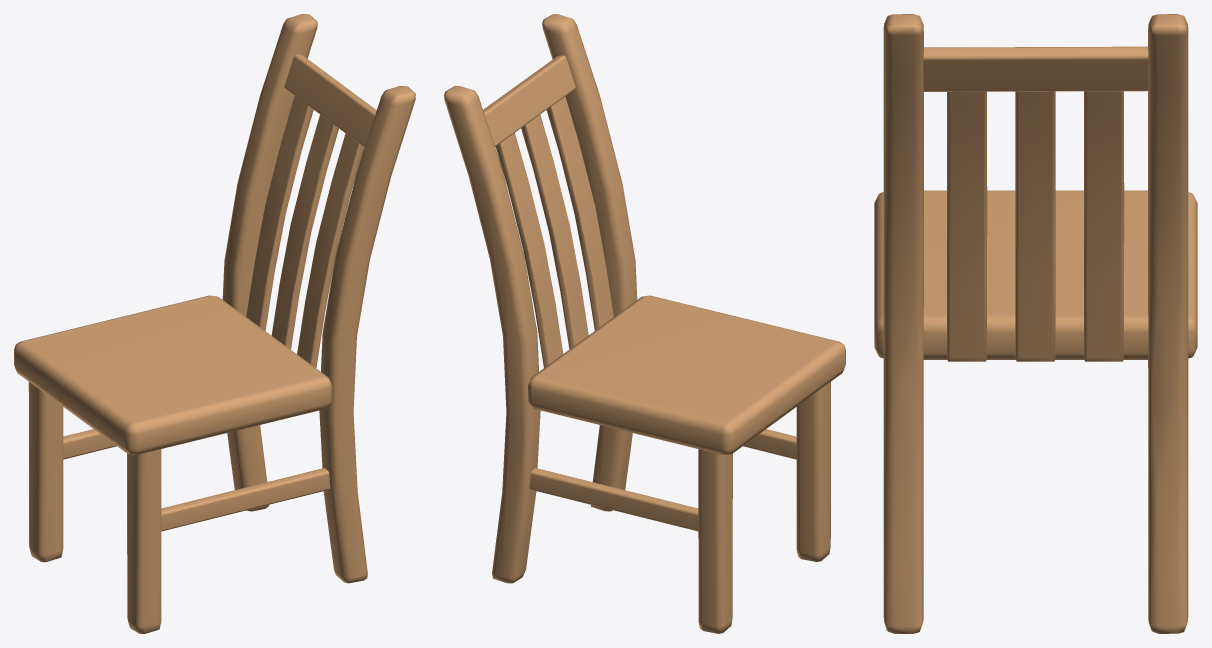
Rendered from chair_04_white.fbx.
The picture shows the model from 3 angles, left to right: view 1: azimuth 30°, elevation 25°; view 2: azimuth 150°, elevation 25°; view 3: azimuth 270°, elevation 25°; orthographic projection. The views are drawn at different scales.
Parts seen in each view (by area): view 1: chair_04_white; view 2: chair_04_white; view 3: chair_04_white.
Part boxes in pixels (box(x1,y1,x2,y2)): chair_04_white: box(14, 14, 415, 633); chair_04_white: box(444, 14, 845, 633); chair_04_white: box(874, 14, 1197, 633).
Bounding box in the file's own units: 67.91 × 106 × 48.29.
Materials: 1 (1 with a texture image).
